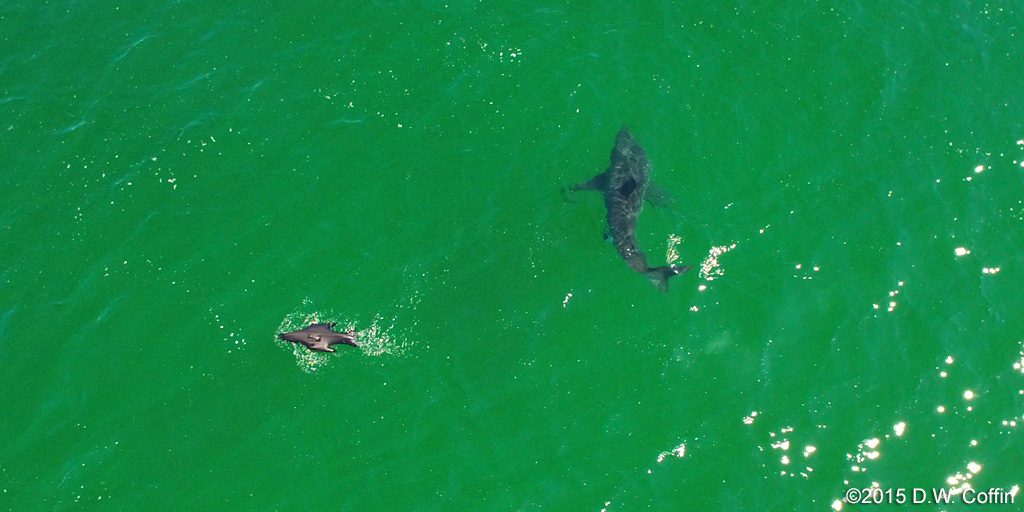shark: (556, 117, 695, 304)
